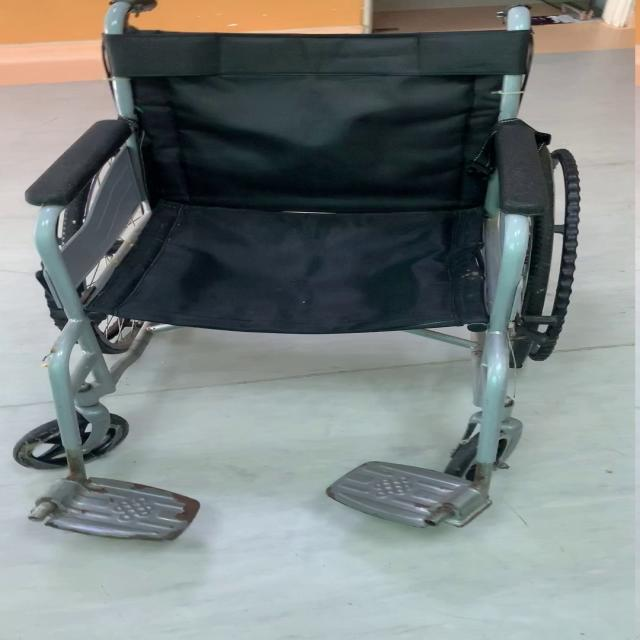wheelchair: (7, 7, 640, 548)
